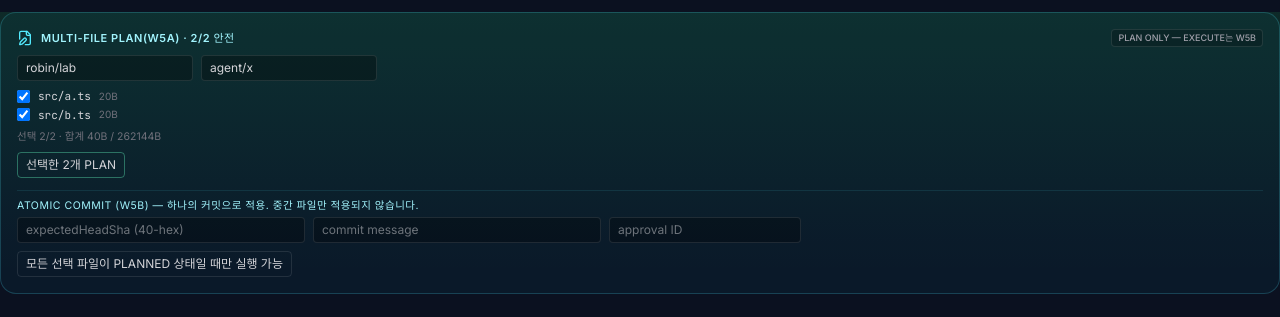
Test: MultiFilePlanCard — W5a › (#1) 2개 안전 파일 → 하나의 클릭으로 W3a plan을 파일마다 1회씩 호출 + 각 행에 planned 표시
This screenshot has width=1280, height=317.
Click the button with test id "publish-multifile-plan-all": coordinates (71, 165) 17,152 -> 125,178
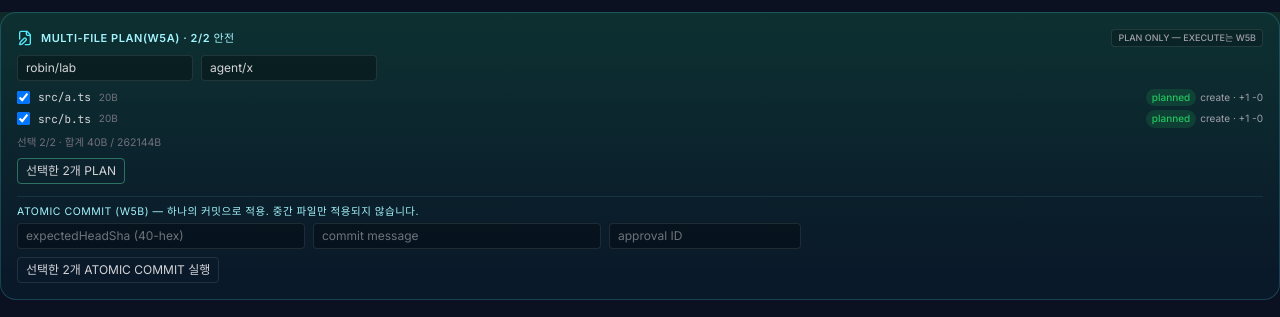
Now the list item with test id "publish-multifile-row-src/a.ts" has attribute data-state="planned", box 17,89 -> 1263,106
Now the list item with test id "publish-multifile-row-src/b.ts" has attribute data-state="planned", box 17,110 -> 1263,128
